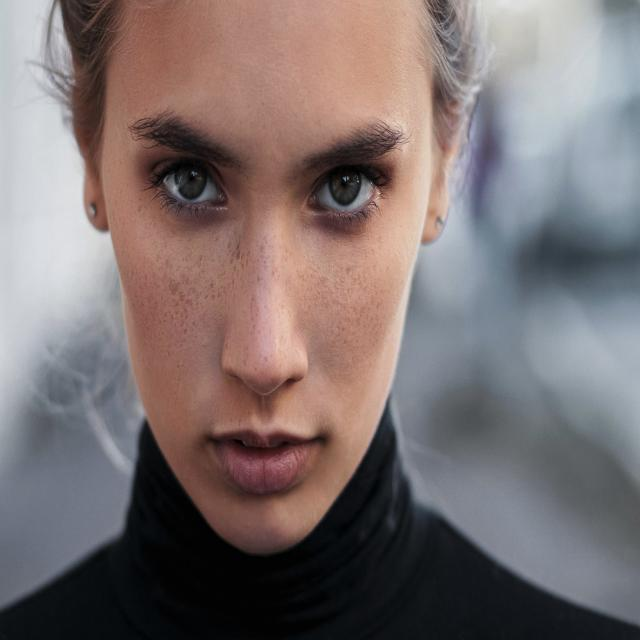adult: (17, 2, 574, 640)
